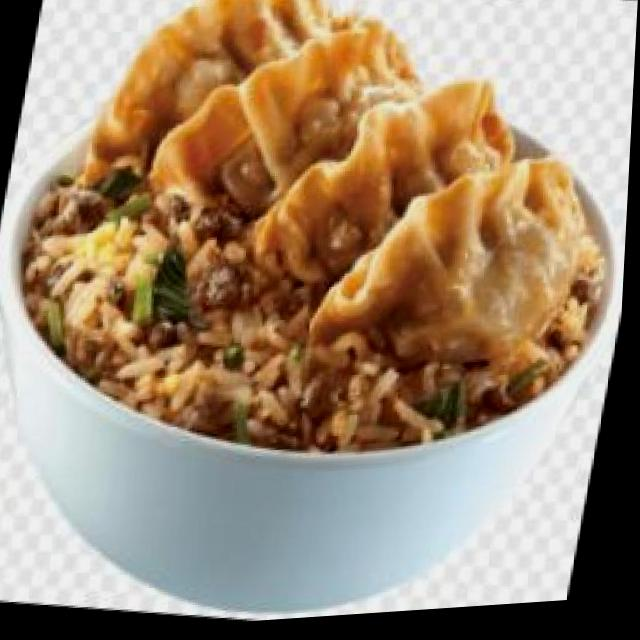fried_dumplings: (48, 0, 633, 407)
